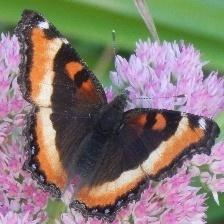butterfly: (15, 10, 220, 211)
